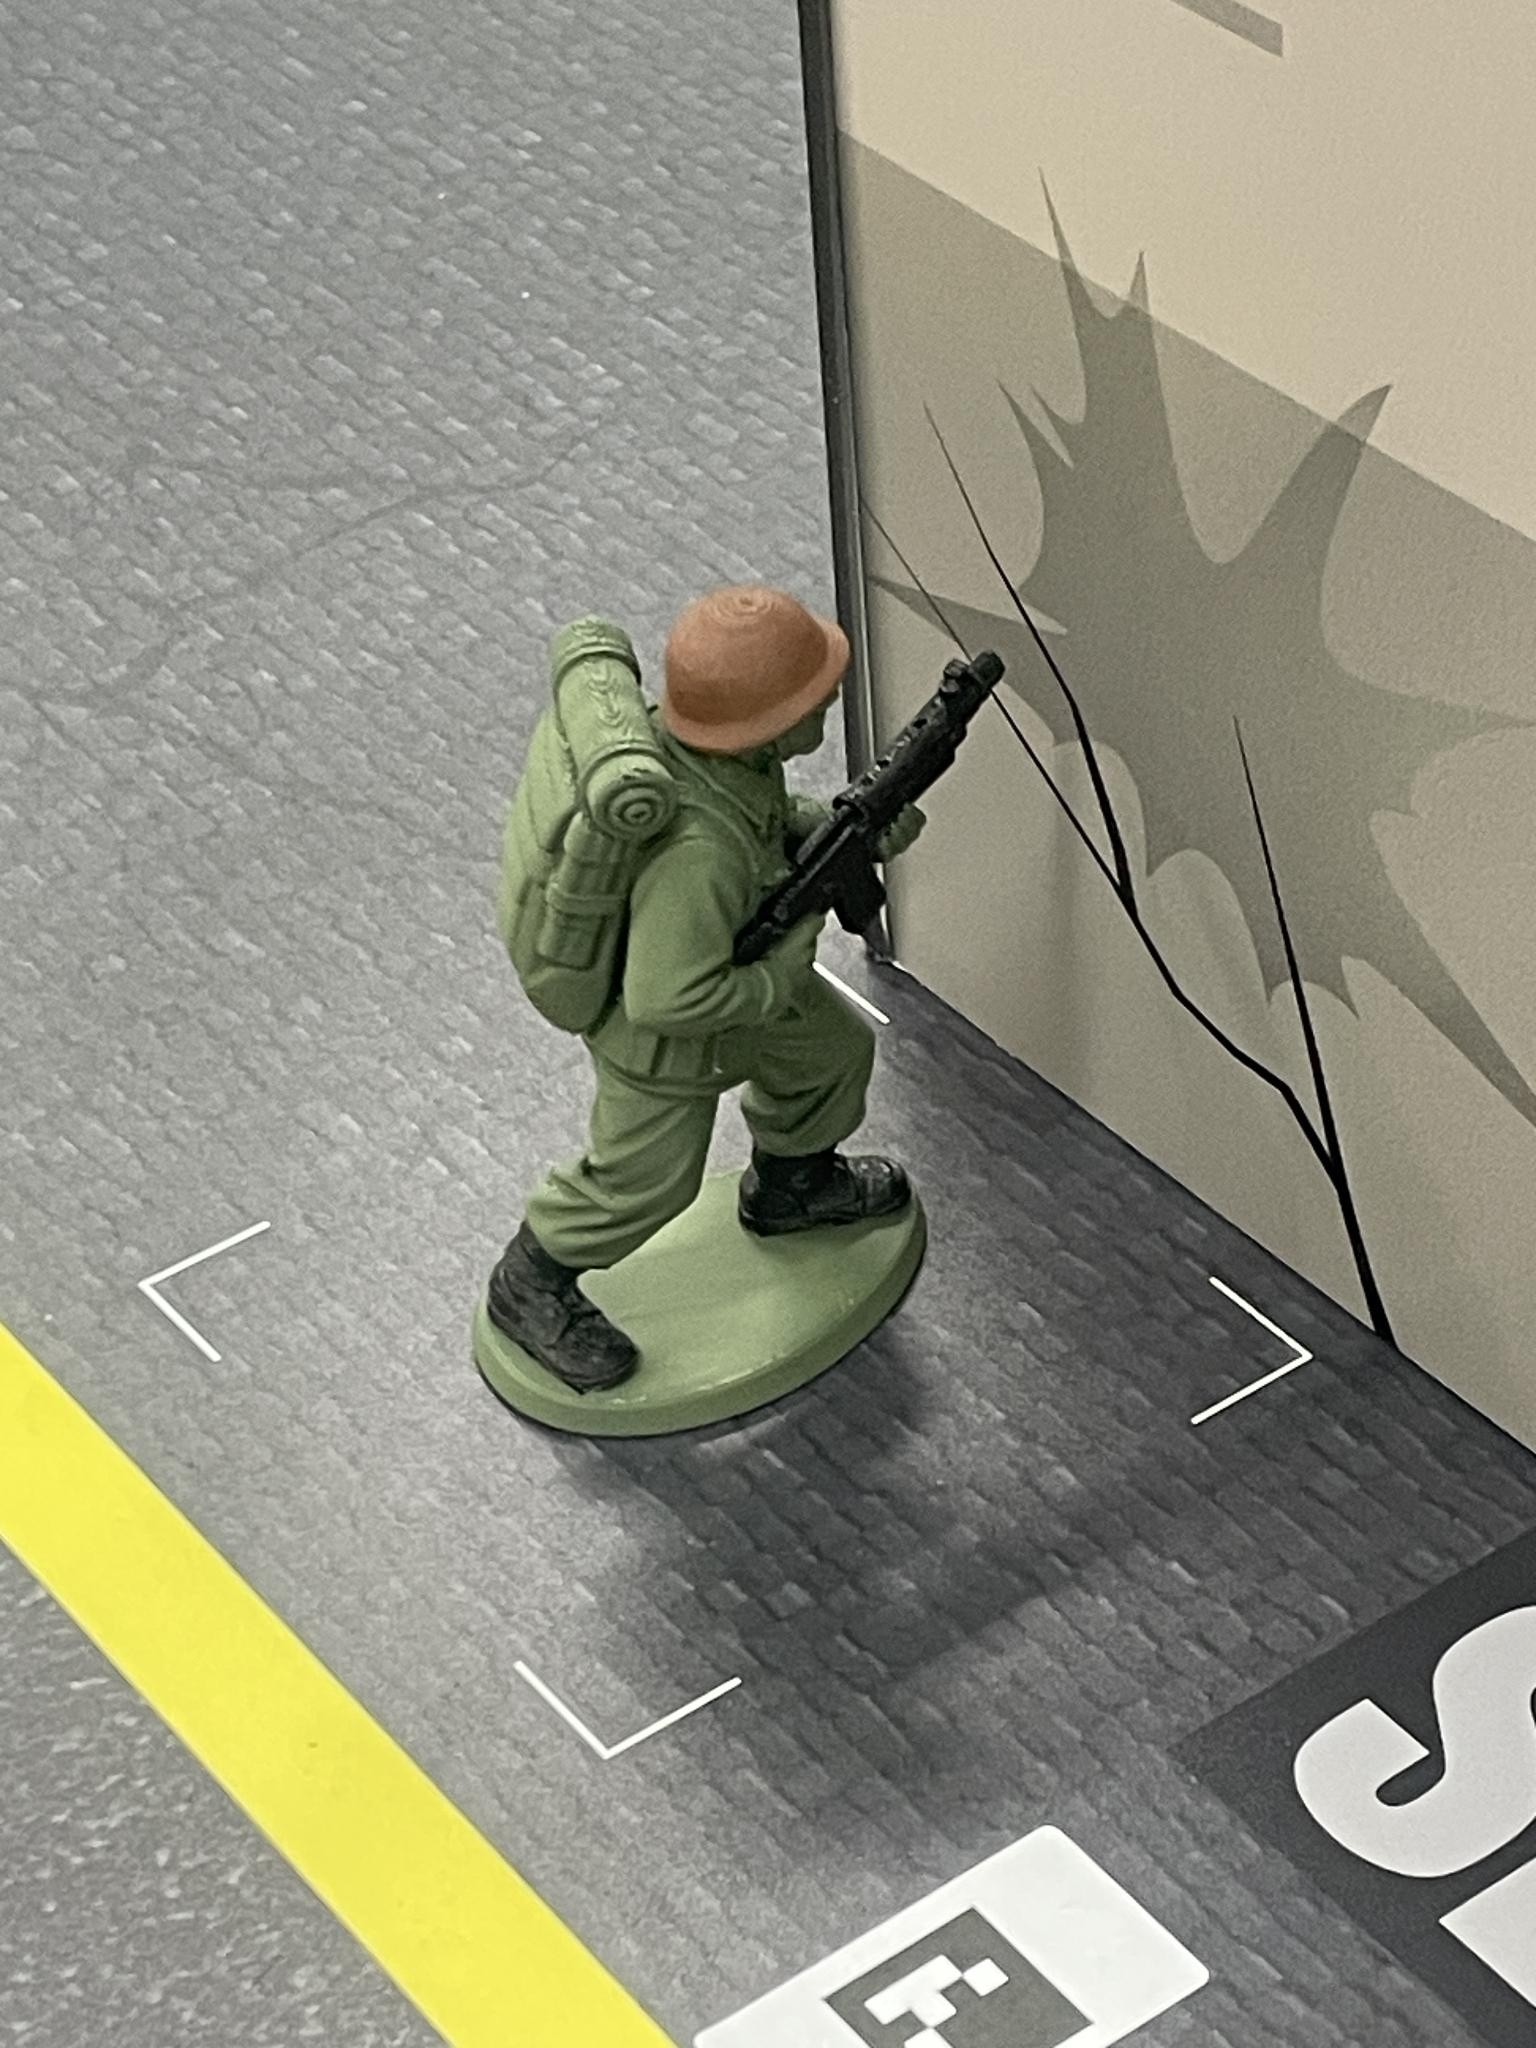Enemy: (468, 582, 1026, 1467)
